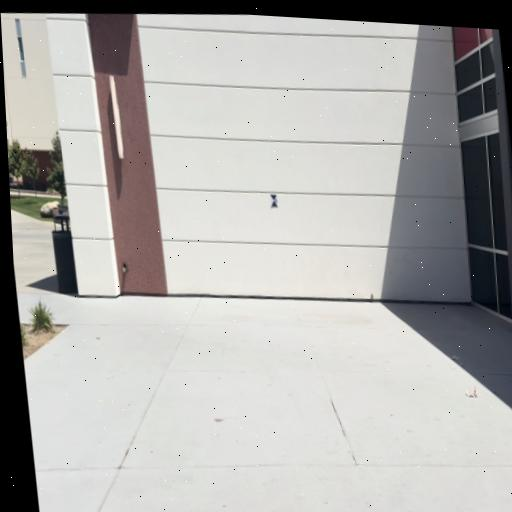target0: (270, 194, 278, 208)
